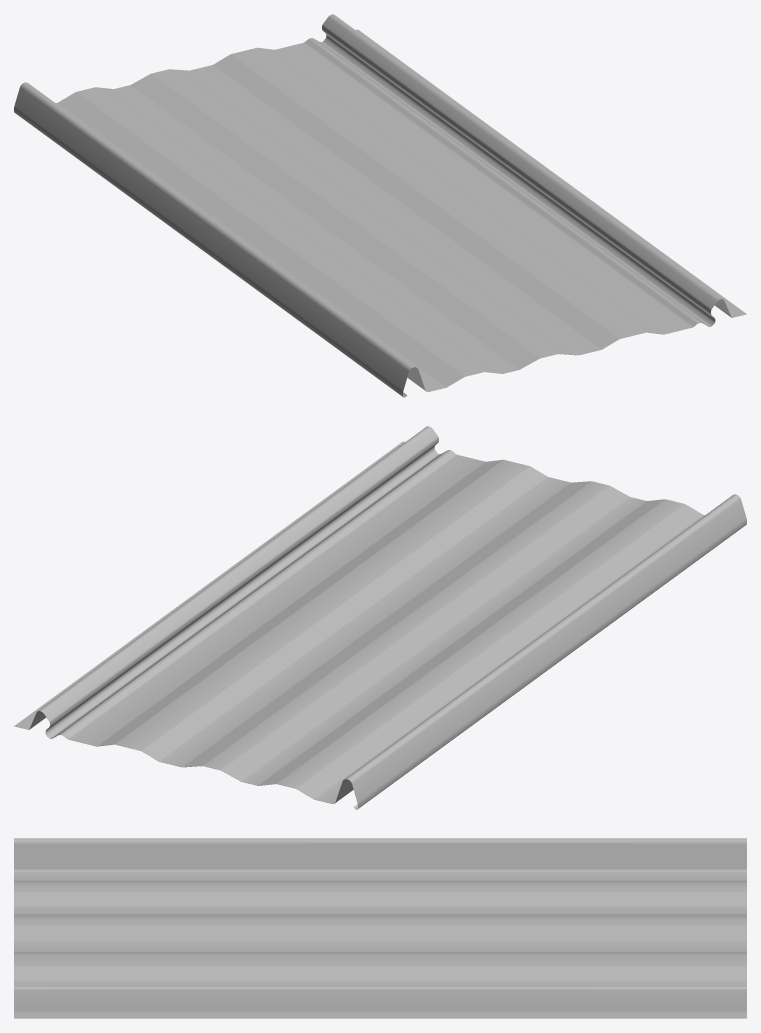
File: Snaplock-Profile.glb
3 renders of one model, top to bottom at view 1: azimuth 30°, elevation 25°; view 2: azimuth 150°, elevation 25°; view 3: azimuth 270°, elevation 25°, orthographic. The views are drawn at different scales.
Visible parts, largest first — view 1: Plane.001; view 2: Plane.001; view 3: Plane.001.
Part boxes in pixels (<box>): Plane.001: <box>14,14,746,397</box>; Plane.001: <box>14,426,746,809</box>; Plane.001: <box>14,838,746,1018</box>.
Size of the model in its own units: 4.6 by 0.4108 by 9.
1 material, 1 textured.
